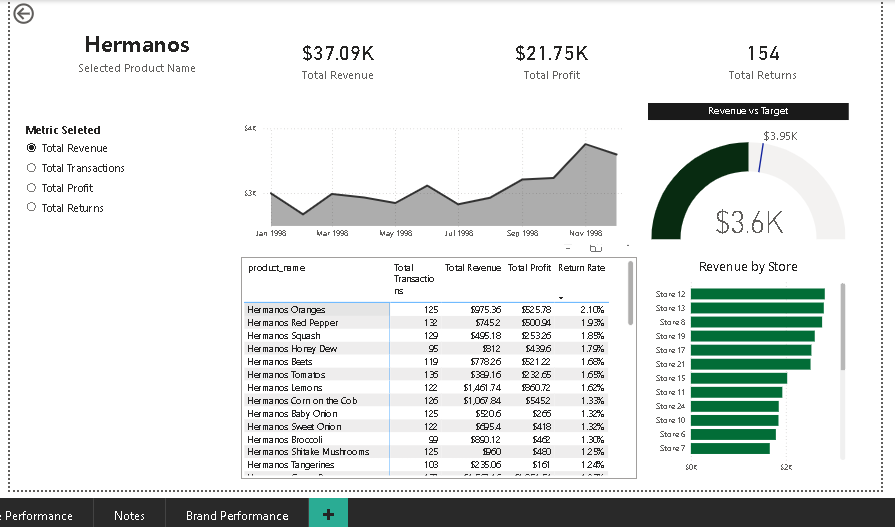

This screenshot's page, from the dashboard's own definition file:
{"tool":"powerbi","page":{"name":"Brand Performance","canvas":[1280,720],"ordinal":2},"visuals":[{"type":"card","title":"Selected Product Nmae","fields":{"Values":["Min(Products.product_brand)"]},"box":[49.2,0,277.4,151],"z":0},{"type":"actionButton","box":[0,0,100,40],"z":1000},{"type":"pivotTable","fields":{"Rows":["Products.product_name"],"Values":["Measures Table.Total Transactions","Measures Table.Total Revenue","Measures Table.Total Profit","Measures Table.Return Rate"]},"box":[339.4,377.6,581.9,326.2],"z":2000},{"type":"lineChart","fields":{"Y":["Measures Table.Total Revenue"],"Category":["Calendar.Start of Month.Variation.Date Hierarchy.Year","Calendar.Start of Month.Variation.Date Hierarchy.Quarter","Calendar.Start of Month.Variation.Date Hierarchy.Month","Calendar.Start of Month.Variation.Date Hierarchy.Day"]},"box":[339.4,174.9,581.9,185.1],"z":3000},{"type":"slicer","fields":{"Values":["Metric Seleted.Metric Seleted"]},"box":[10.3,174.9,299.8,185.1],"z":4000},{"type":"card","fields":{"Values":["Measures Table.Total Revenue"]},"box":[339.4,20.6,283.6,130.8],"z":5000},{"type":"card","fields":{"Values":["Measures Table.Total Profit"]},"box":[653.9,20.6,283.6,130.8],"z":6000},{"type":"card","fields":{"Values":["Measures Table.Total Returns"]},"box":[963.9,20.6,283.6,130.8],"z":7000},{"type":"gauge","title":"Revenue vs Target","fields":{"Y":["Measures Table.Total Revenue"],"TargetValue":["Measures Table.Revenue Target"]},"box":[937.5,151.3,295.3,208.7],"z":8000},{"type":"clusteredBarChart","title":"Revenue by Store","fields":{"Category":["Stores.store_name"],"Y":["Measures Table.Total Revenue"]},"box":[937.5,377.6,295.3,326.2],"z":9000}]}

Visuals, with their boxes on the page's 1280x720 design canvas (x1, y1, x2, y2). These are canvas units, not pixel positions in the 895x527 screenshot, which may show the page scaled, cropped or inside an application window:
"Selected Product Nmae" card: locate(49, 0, 327, 151)
actionButton: locate(0, 0, 100, 40)
pivotTable - Products.product_name x Measures Table.Total Transactions: locate(339, 378, 921, 704)
lineChart - Measures Table.Total Revenue x Calendar.Start of Month.Variation.Date Hierarchy.Year: locate(339, 175, 921, 360)
slicer - Metric Seleted.Metric Seleted: locate(10, 175, 310, 360)
card - Measures Table.Total Revenue: locate(339, 21, 623, 151)
card - Measures Table.Total Profit: locate(654, 21, 938, 151)
card - Measures Table.Total Returns: locate(964, 21, 1248, 151)
"Revenue vs Target" gauge: locate(938, 151, 1233, 360)
"Revenue by Store" clusteredBarChart: locate(938, 378, 1233, 704)
